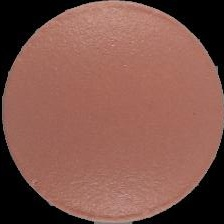55289-872: (0, 0, 224, 224)
